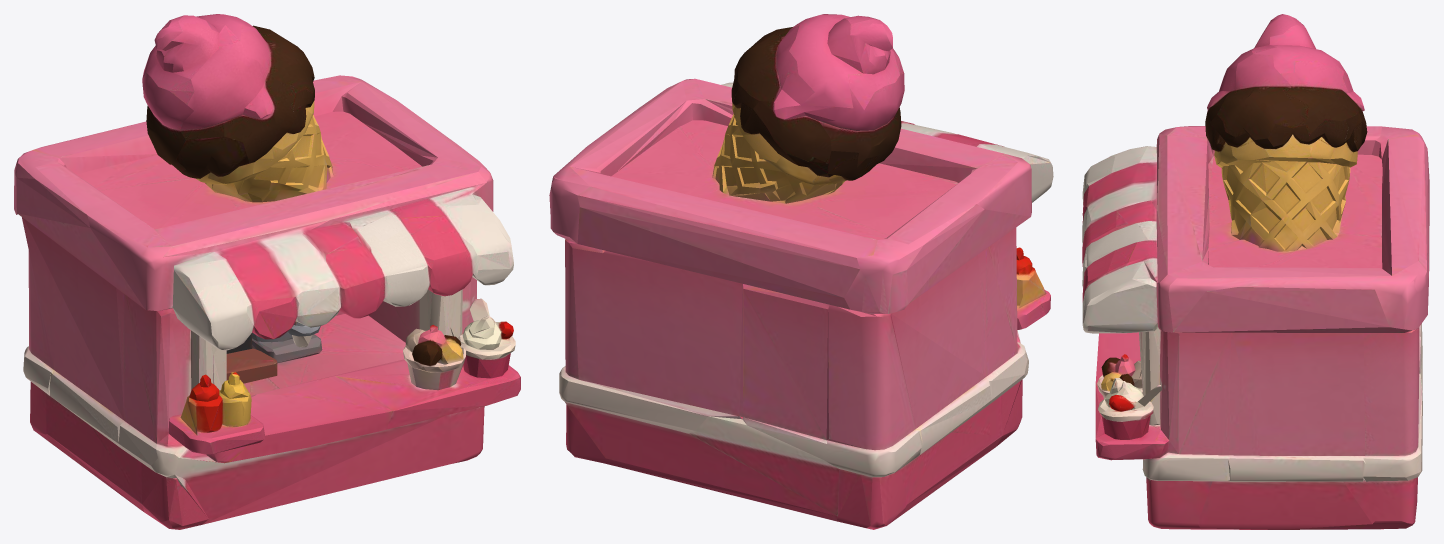
Rendered from strand-iskiosk.glb.
The picture shows the model from 3 angles, left to right: view 1: azimuth 30°, elevation 25°; view 2: azimuth 150°, elevation 25°; view 3: azimuth 270°, elevation 25°; orthographic projection. The views are drawn at different scales.
Bounding box in the file's own units: 1.59 × 1.9 × 1.46.
1 material, 1 textured.
